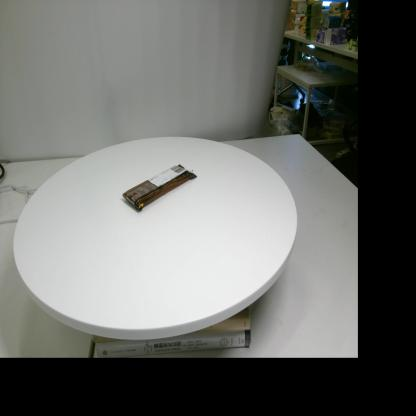Chocolate: (123, 164, 197, 210)
